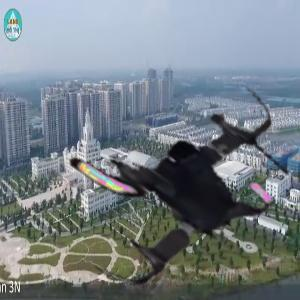drone: (44, 47, 297, 300)
